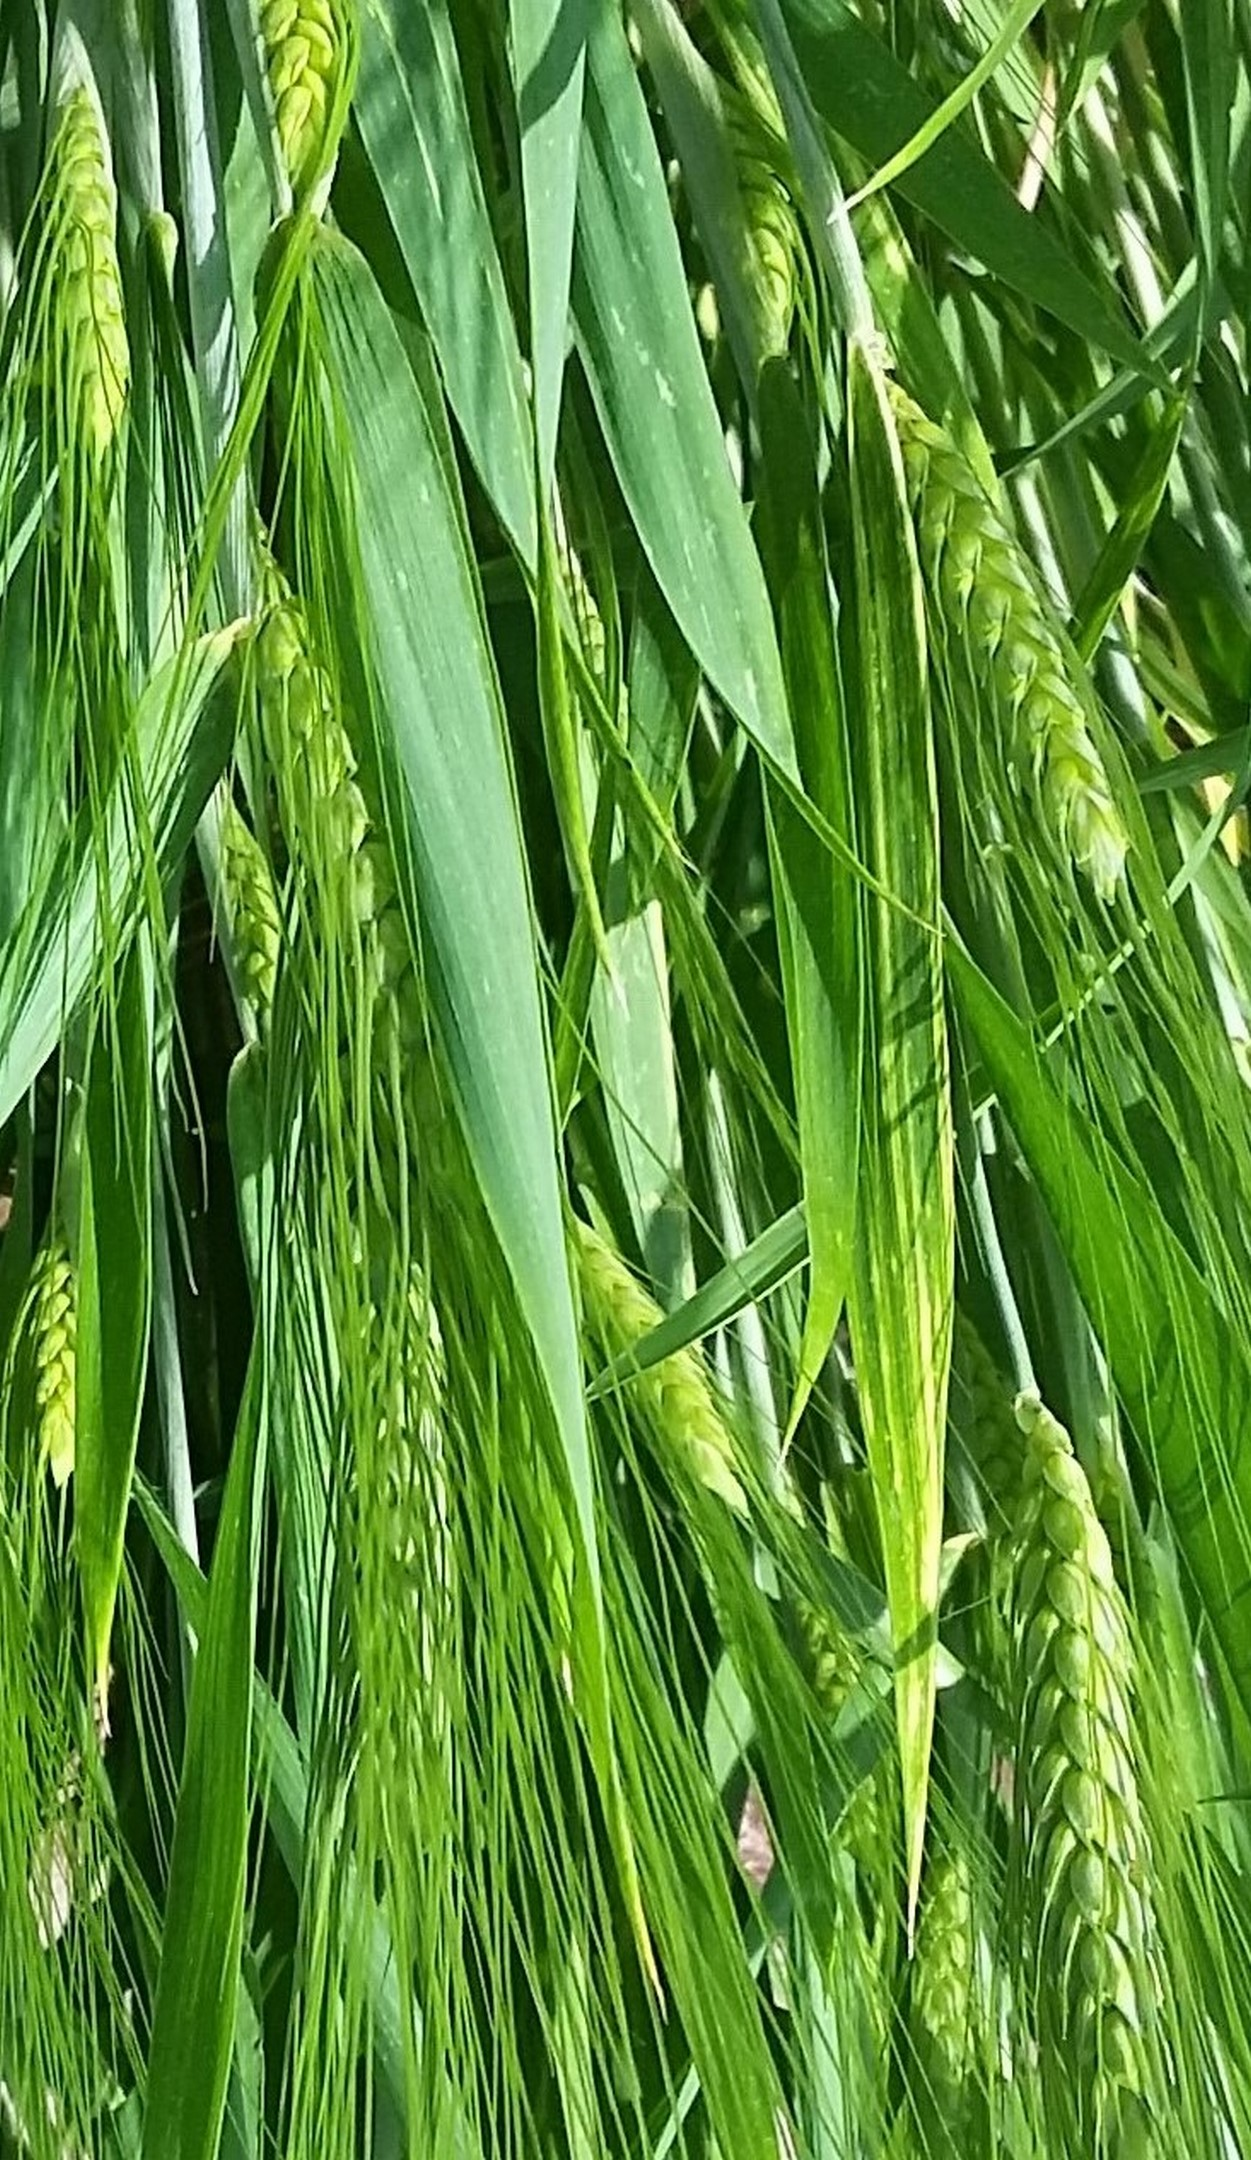Healthy Wheat: (977, 1384, 1212, 2084), (873, 368, 1174, 898)
